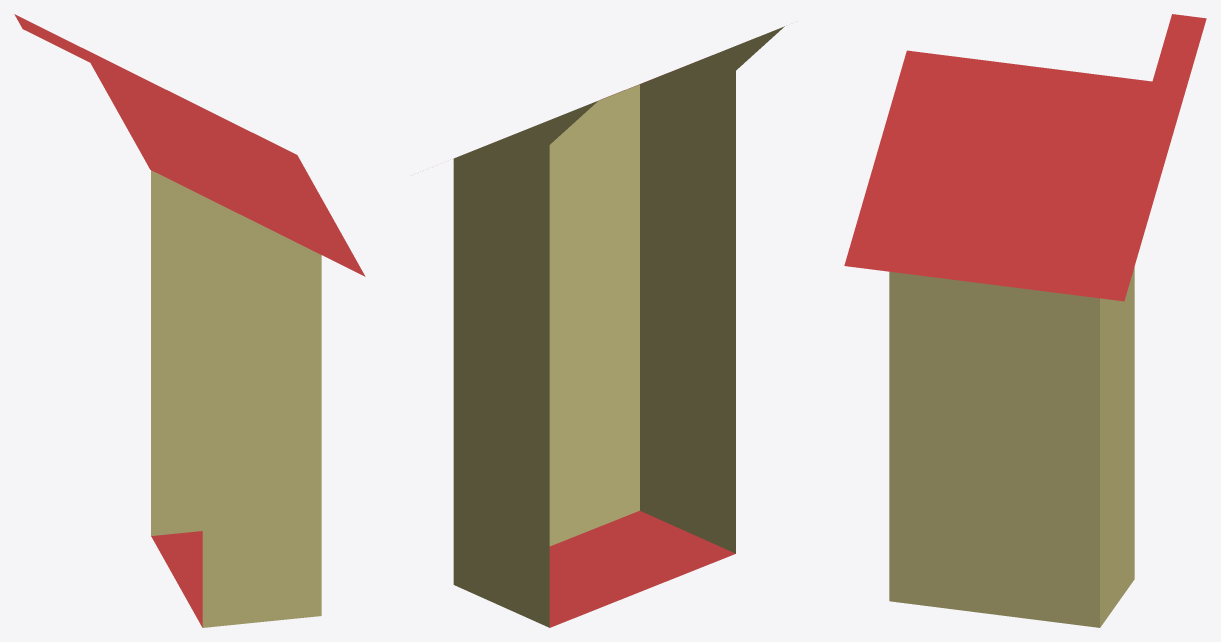
3 views of the same model, side by side, from view 1: azimuth 30°, elevation 25°; view 2: azimuth 150°, elevation 25°; view 3: azimuth 270°, elevation 25° (orthographic). The views are drawn at different scales.
Size of the model in its own units: 6.07 by 7.51 by 11.71.
